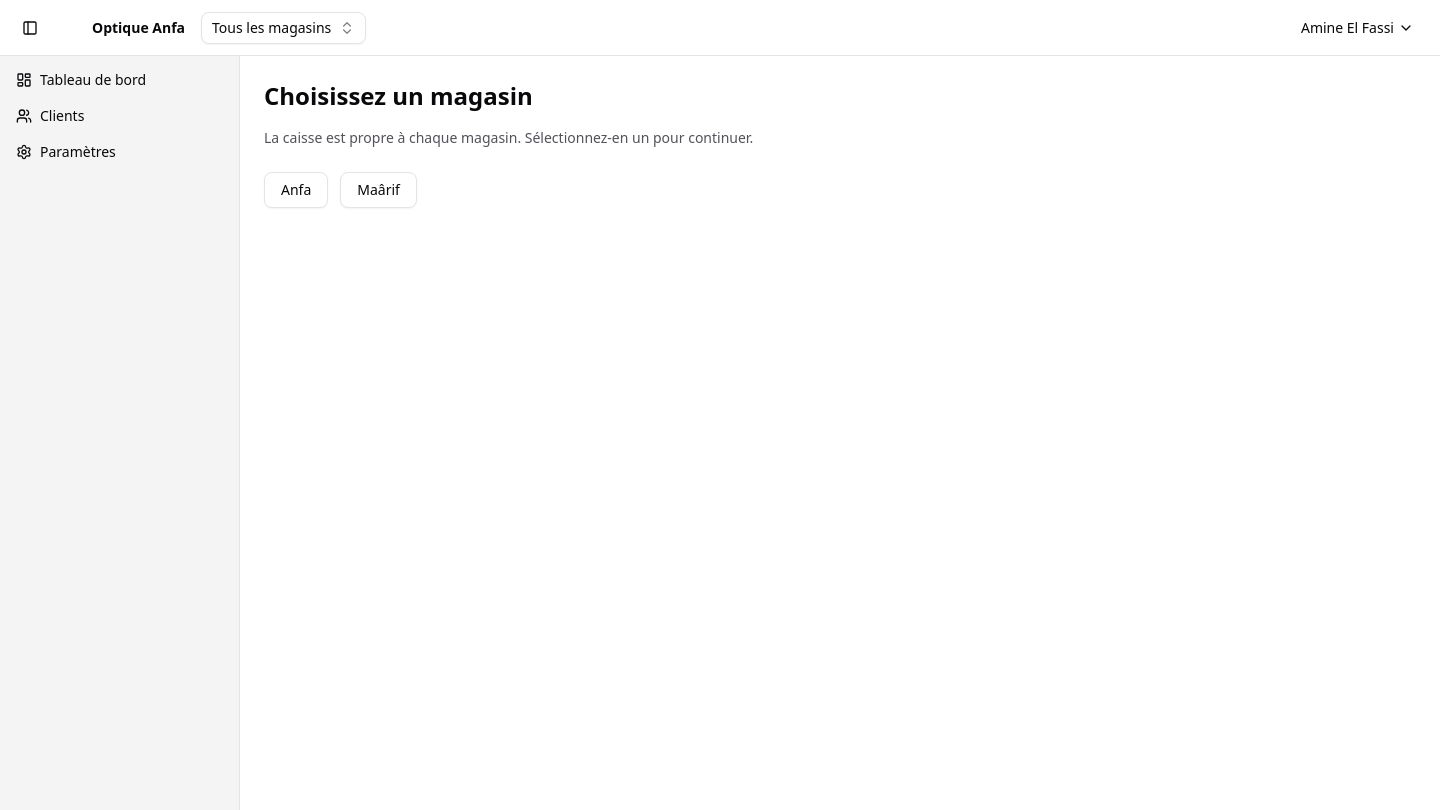
la portee de route › choisir dans l'invite rend enfin le contenu de la route
Expected: the navigation bar named "Navigation principale" is shown, [16, 70, 146, 161]
Click the button "Anfa" at (296, 190), box [264, 172, 328, 208]
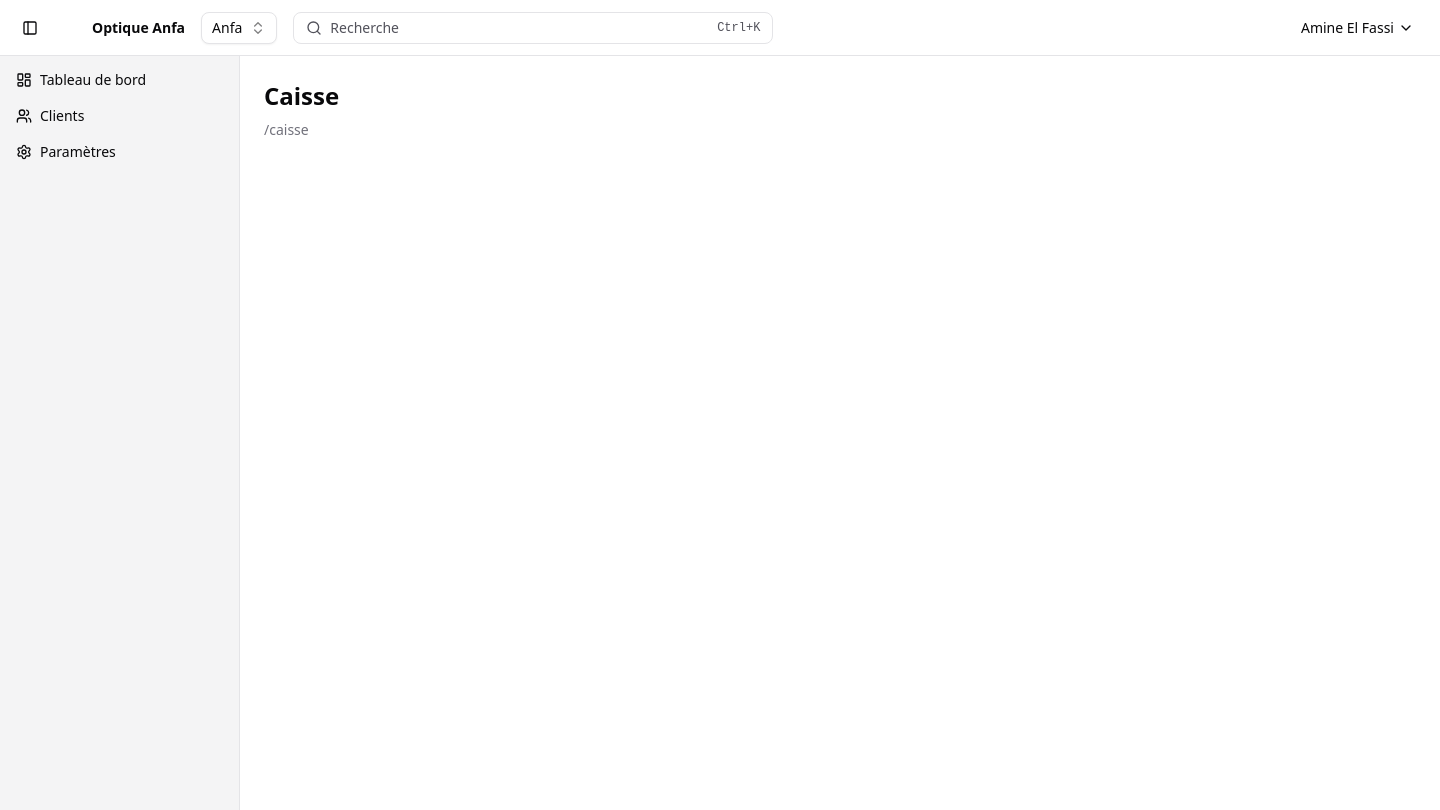
Expected: the heading reads "Caisse", [264, 79, 339, 112]
Expected: the text with test id "destination" reads "/caisse", [264, 120, 309, 139]
